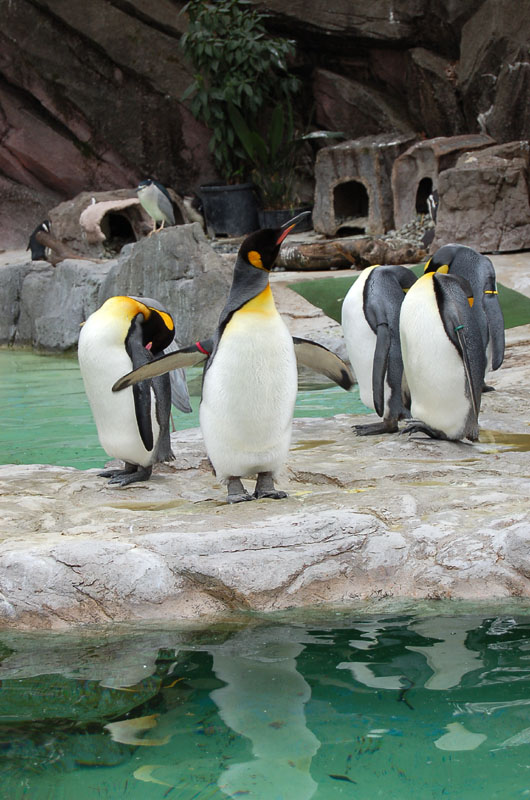penguin: (115, 209, 353, 508), (401, 278, 530, 450), (81, 297, 193, 490)
